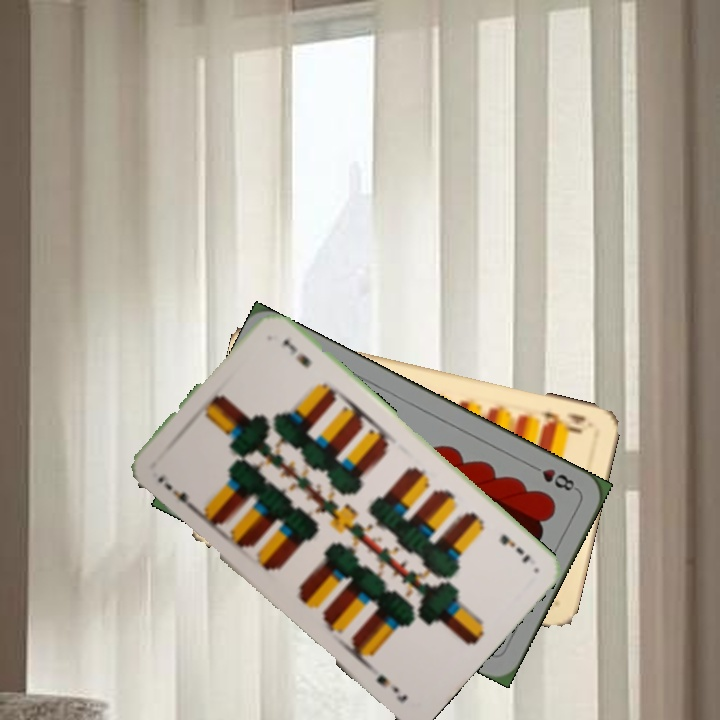E10: (536, 407, 589, 435)
E7: (153, 470, 198, 514), (496, 530, 533, 566)
H8: (525, 460, 580, 494)
